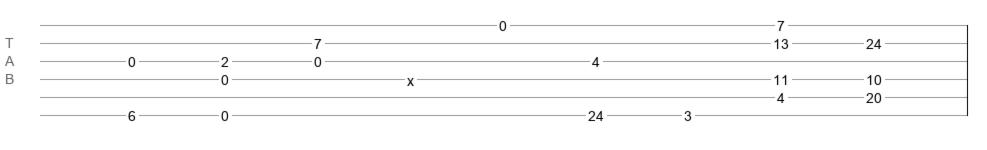0: (128, 54, 136, 64), (221, 108, 229, 118), (221, 72, 229, 82), (314, 54, 322, 64), (499, 18, 507, 28)
10: (866, 72, 882, 82)
11: (773, 72, 789, 82)
13: (773, 36, 789, 46)
2: (221, 54, 229, 64)
20: (866, 90, 882, 100)
24: (588, 108, 604, 118), (866, 36, 882, 46)
3: (684, 108, 692, 118)
4: (592, 54, 600, 64), (777, 90, 785, 100)
6: (128, 108, 136, 118)
7: (314, 36, 322, 46), (777, 18, 785, 28)
x: (407, 73, 414, 81)
